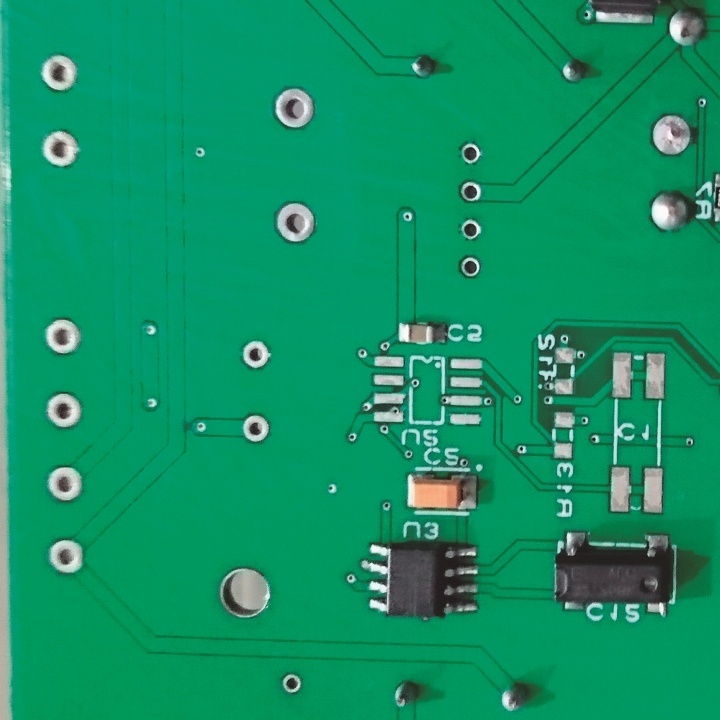F: (270, 199, 319, 245), (647, 111, 694, 158), (271, 87, 315, 131), (39, 129, 83, 172), (41, 313, 83, 358), (38, 52, 79, 93), (44, 465, 84, 506), (44, 393, 86, 429), (50, 540, 87, 579), (238, 340, 273, 372), (242, 412, 271, 443), (459, 140, 484, 172), (459, 180, 486, 209), (459, 218, 485, 245), (459, 254, 481, 281), (279, 672, 301, 698)
